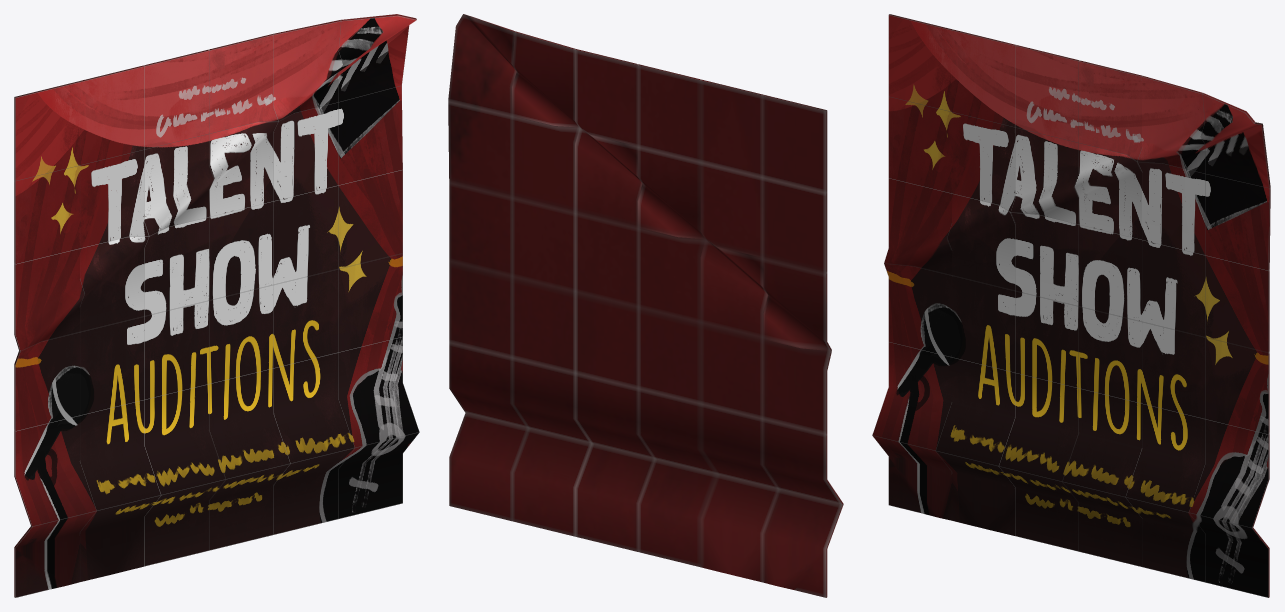
File: Poster_audition_textures_folded.fbx
The picture shows the model from 3 angles, left to right: view 1: azimuth 30°, elevation 25°; view 2: azimuth 150°, elevation 25°; view 3: azimuth 330°, elevation 25°; orthographic projection. The views are drawn at different scales.
Parts seen in each view (by area): view 1: Poster_audiotion_textures; view 2: Poster_audiotion_textures; view 3: Poster_audiotion_textures.
Part boxes in pixels (x1=…): Poster_audiotion_textures: x1=14, y1=14, x2=419, y2=597; Poster_audiotion_textures: x1=448, y1=14, x2=843, y2=597; Poster_audiotion_textures: x1=872, y1=14, x2=1270, y2=597.
Size of the model in its own units: 0.1934 by 0.2389 by 0.0164.
1 material, 1 textured.
